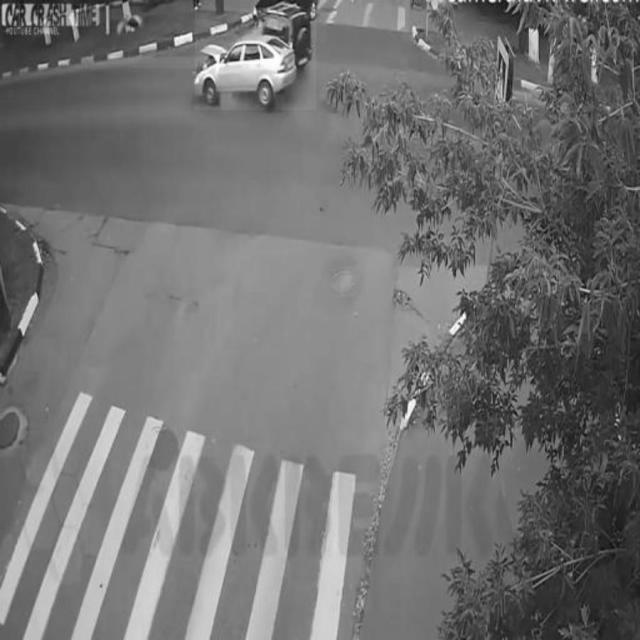accident: (195, 12, 316, 110)
